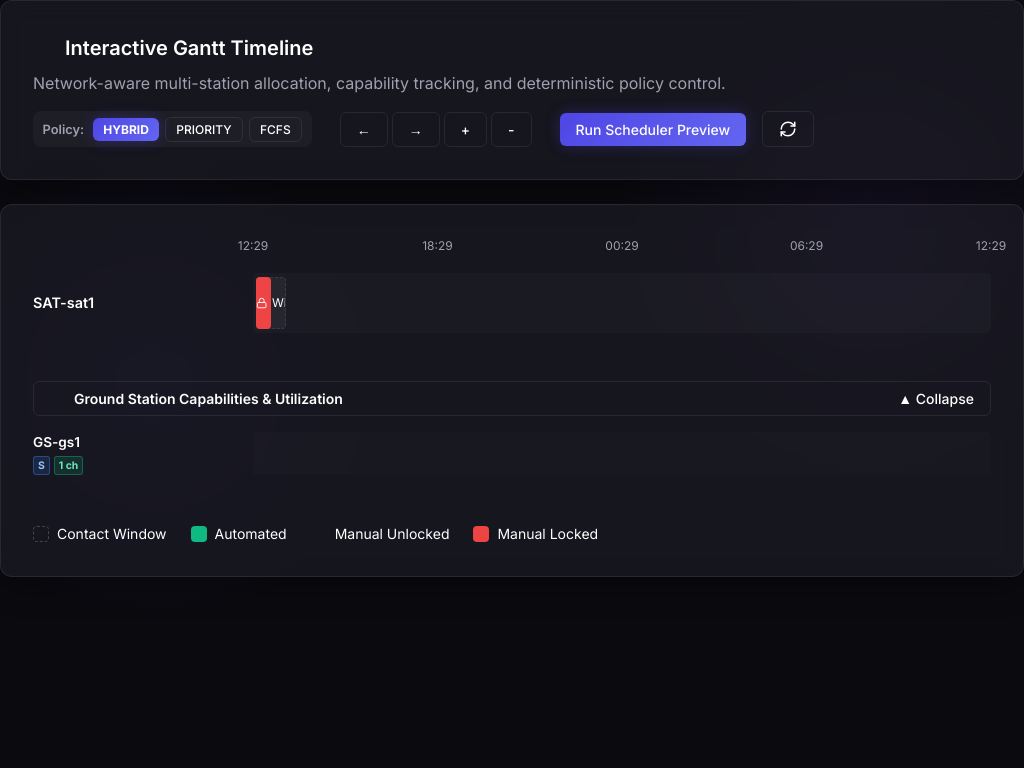
GanttTimeline › renders live proposal metrics and allows inspecting score breakdown
Click the button "Run Scheduler Preview" at (653, 129), box [560, 113, 746, 146]
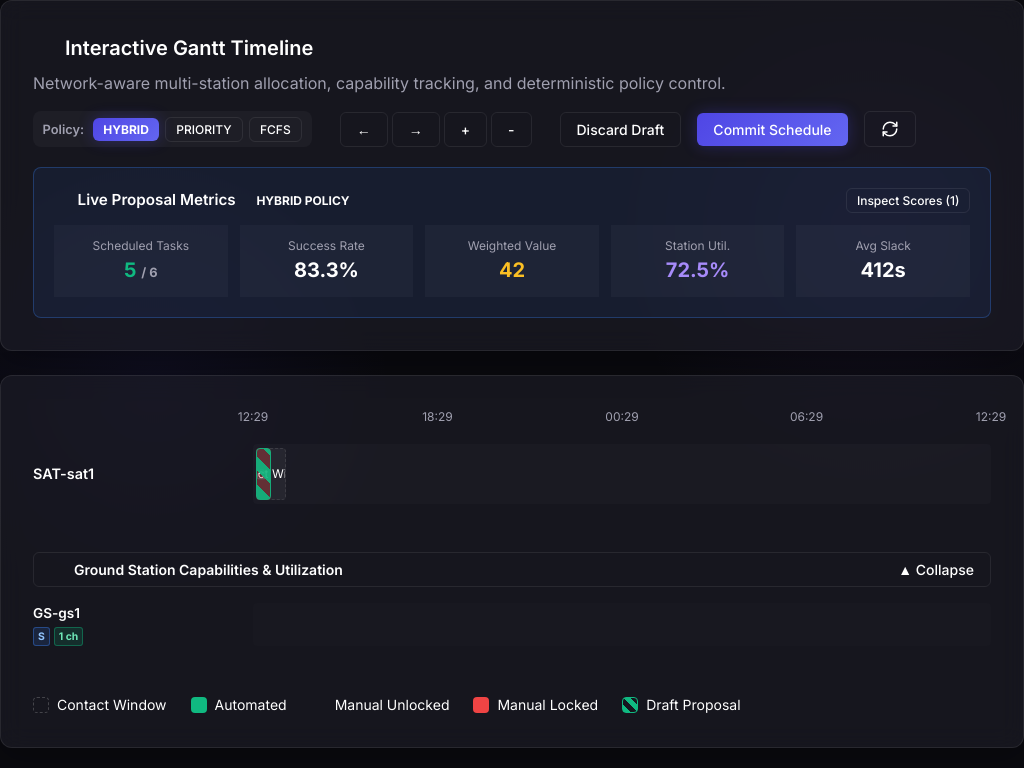
Now the text "Live Proposal Metrics" is shown, box [54, 189, 236, 212]
Now the text "83.3%" is shown, box [294, 258, 359, 282]
Now the text "72.5%" is shown, box [666, 258, 729, 282]
Note: Inspect Score Breakdowns
Click the button "Inspect Scores (1)" at (908, 201), box [846, 188, 970, 213]
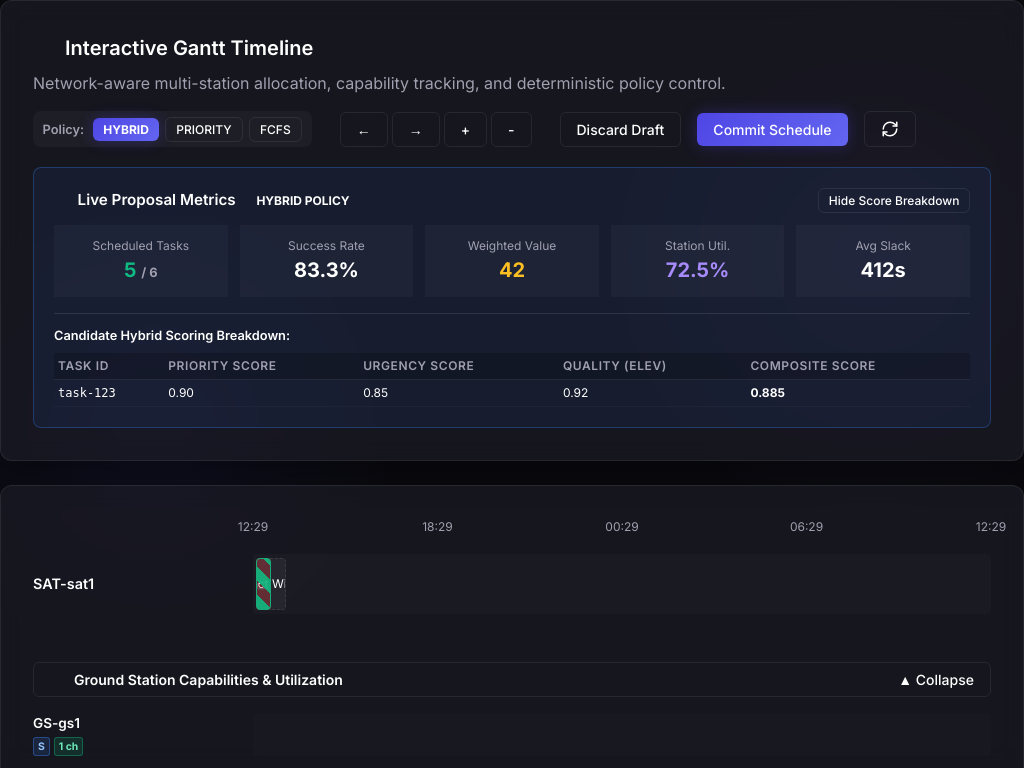
Now the text "Candidate Hybrid Scoring Breakdown:" is shown, box [54, 328, 290, 343]
Now the text "task-123" is shown, box [54, 380, 164, 407]
Now the text "0.885" is shown, box [746, 380, 970, 407]
